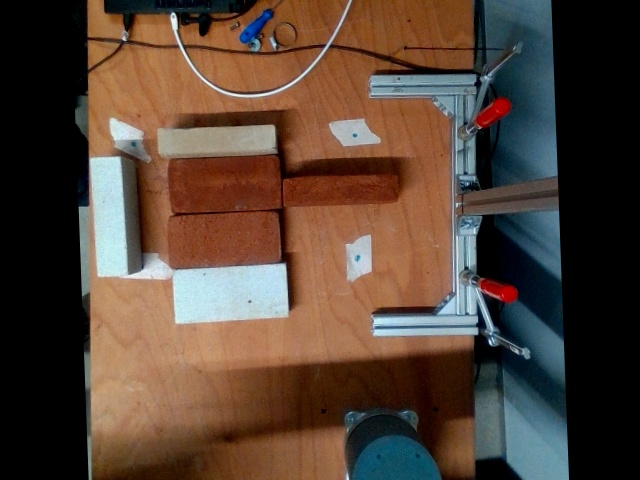brick: (170, 263, 288, 322), (170, 154, 280, 211), (168, 212, 278, 267)
brick-side: (91, 156, 126, 274), (282, 174, 394, 204), (156, 123, 274, 151)
